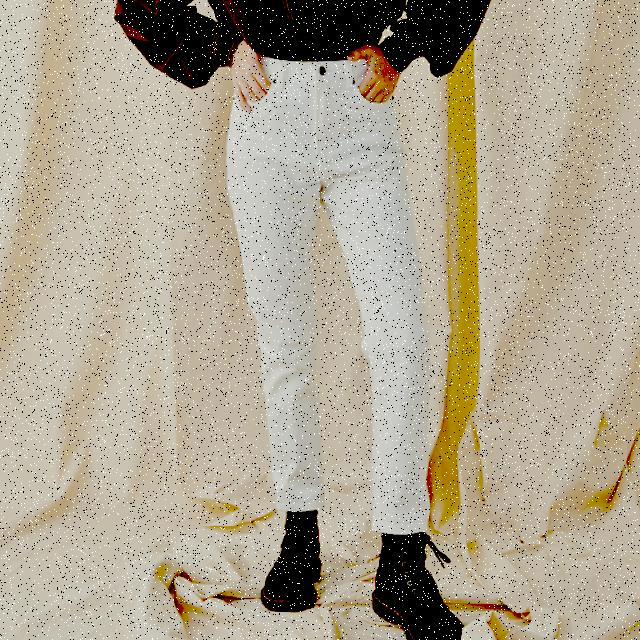dress: (232, 61, 426, 538)
